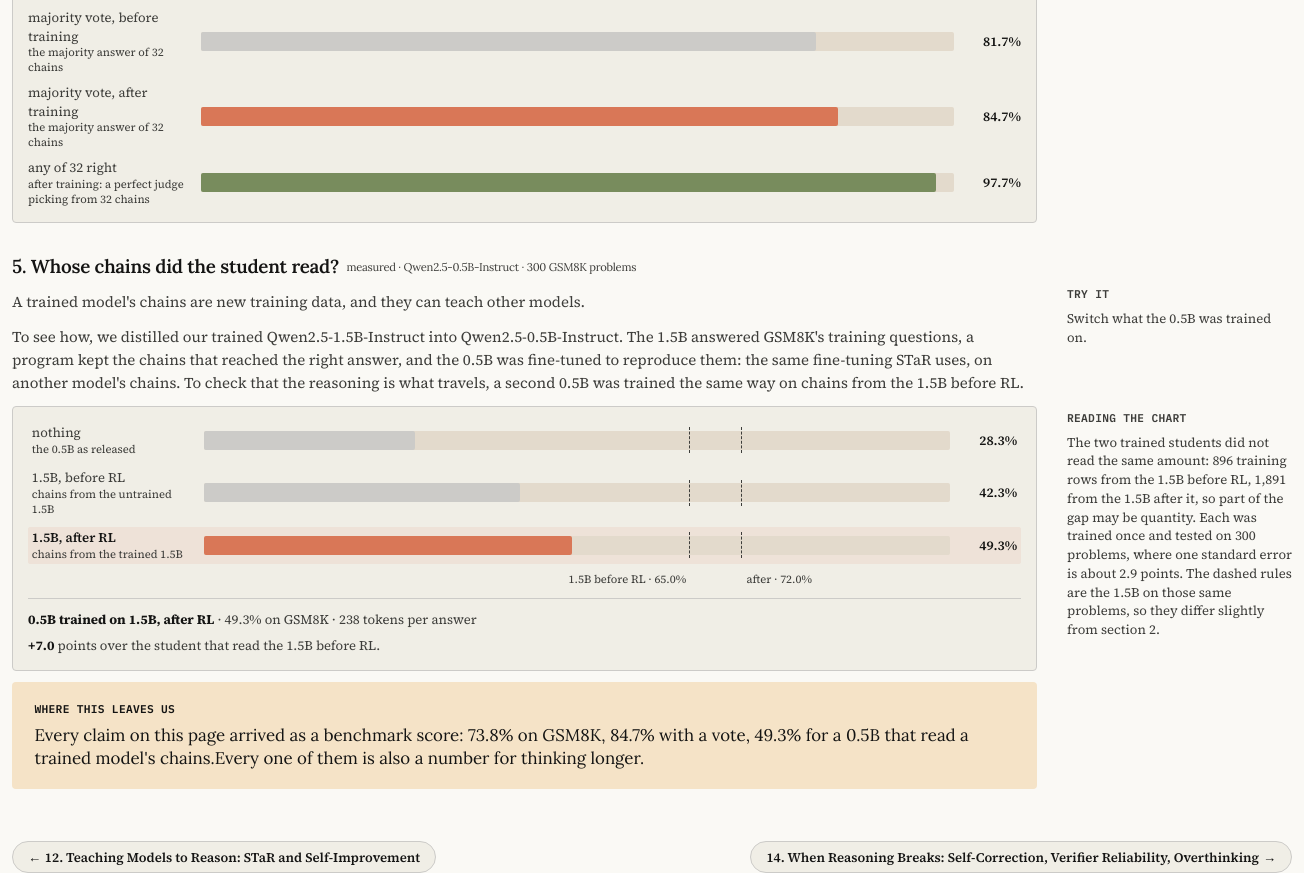
Page 13 (learned reasoning: one law, two knobs) › section 5: our distillation › defaults to the after-RL chains and switches the readout with the dial
(page scrolled)
expect the text "· 49.3% on GSM8K · 238 tokens per answer" is shown: met, box [214,610,477,628]
expect the text "+7.0 points over the student that read the 1.5B before RL." is shown: met, box [28,636,380,654]
Click the button "1.5B, before RL chains from the untrained 1.5B 42.3%".
click(524, 493)  # box [28,466,1021,519]
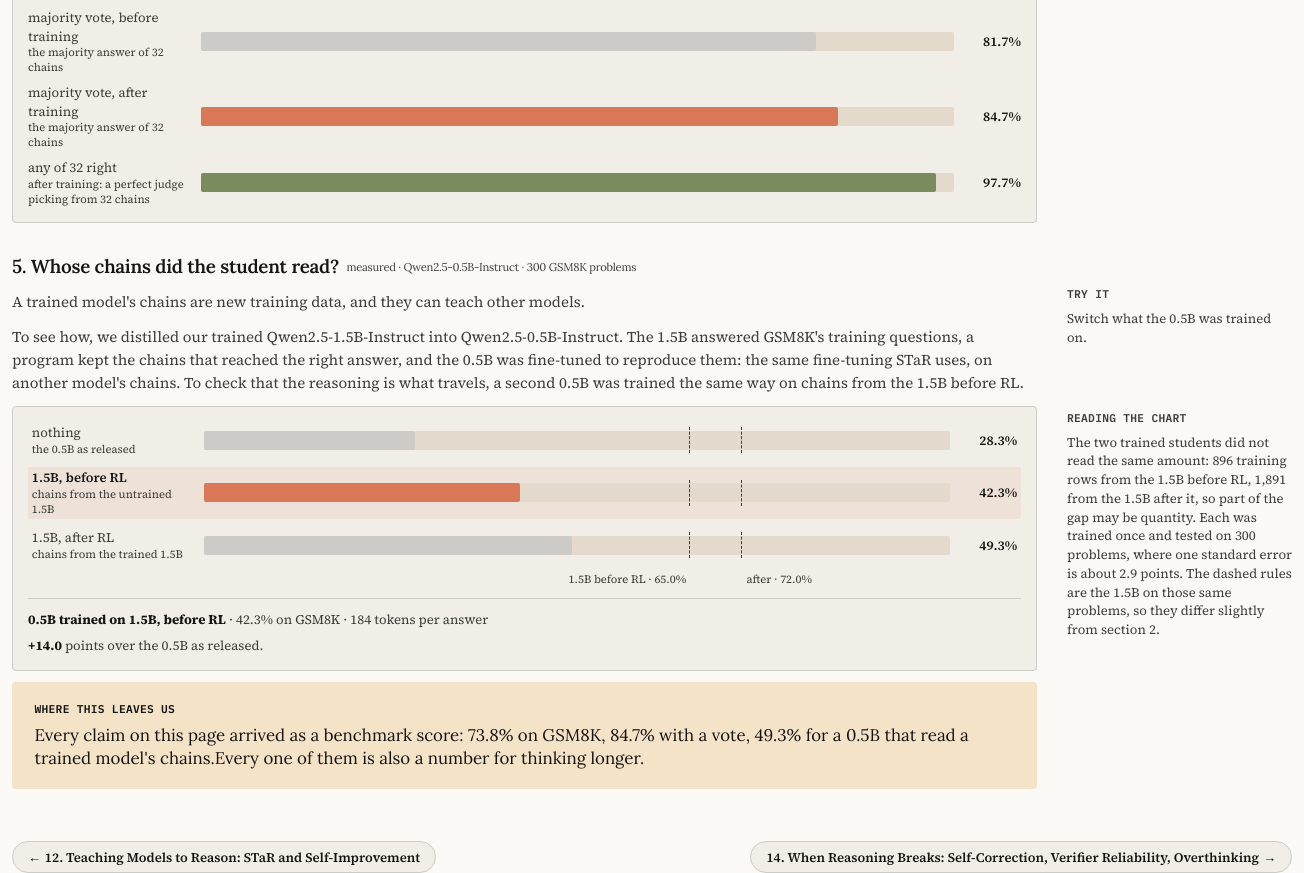
expect the text "+14.0 points over the 0.5B as released." is shown: met, box [28,636,263,654]
Click the button "nothing the 0.5B as released 28.3%".
click(524, 440)  # box [28,422,1021,459]
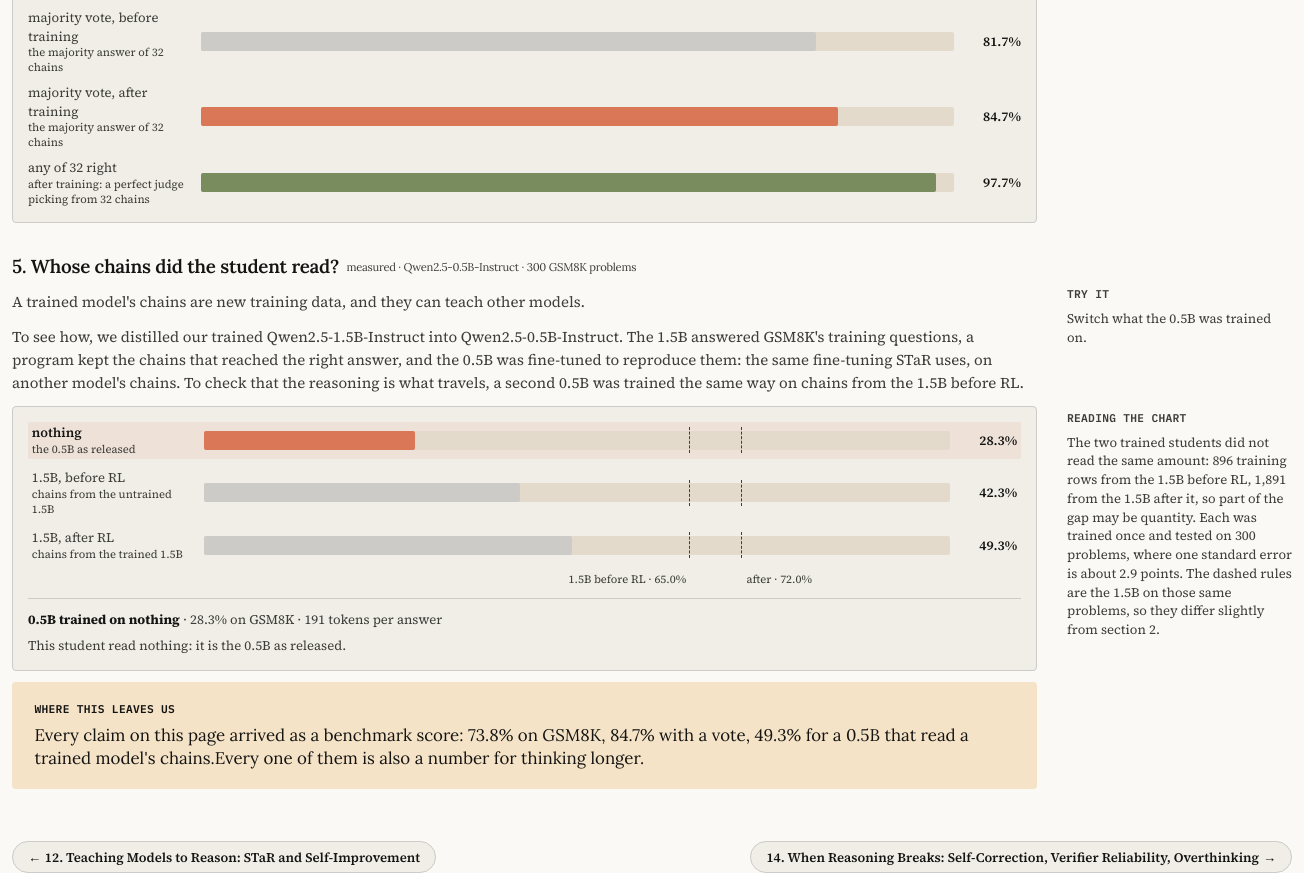
expect the text "This student read nothing: it is the 0.5B as released." is shown: met, box [28,636,346,654]
